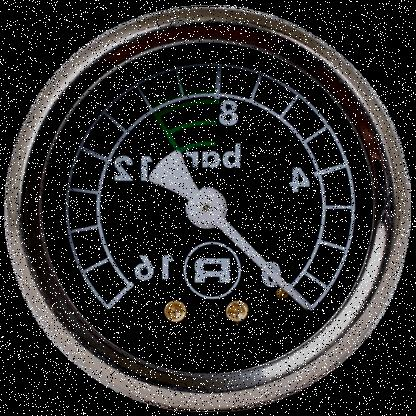needle: (214, 217, 311, 313)
